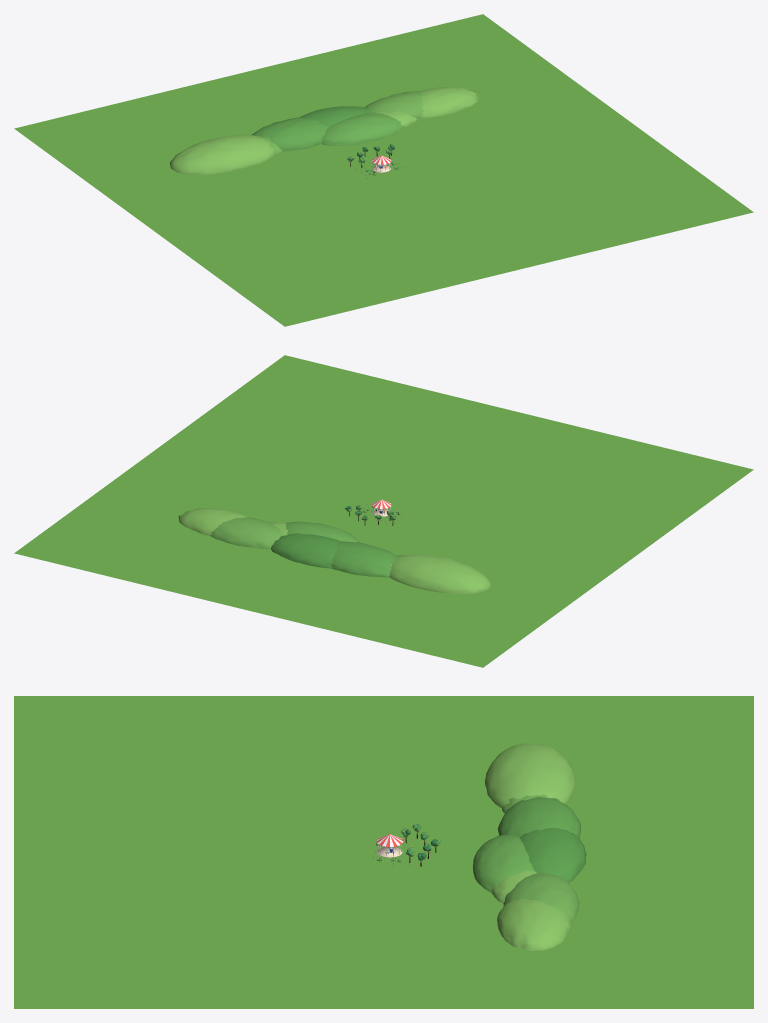
Rendered from B_house.glb.
The picture shows the model from 3 angles, top to bottom: view 1: azimuth 30°, elevation 25°; view 2: azimuth 150°, elevation 25°; view 3: azimuth 270°, elevation 25°; orthographic projection. The views are drawn at different scales.
Visible parts, largest first — view 1: environment_0, environment_1, environment_6, environment_4, environment_2, environment_5; view 2: environment_0, environment_1, environment_4, environment_5, environment_2, environment_6; view 3: environment_0, environment_1, environment_5, environment_4, environment_6, environment_2.
Boxes of the visible parts, bbox=[...] form: environment_0: bbox=[14, 14, 753, 326]; environment_1: bbox=[170, 87, 478, 174]; environment_6: bbox=[321, 113, 404, 146]; environment_4: bbox=[251, 117, 328, 151]; environment_2: bbox=[256, 91, 424, 154]; environment_5: bbox=[299, 106, 371, 126]; environment_0: bbox=[14, 355, 753, 667]; environment_1: bbox=[178, 508, 491, 594]; environment_4: bbox=[331, 541, 396, 577]; environment_5: bbox=[271, 533, 340, 568]; environment_2: bbox=[210, 517, 399, 572]; environment_6: bbox=[285, 521, 359, 542]; environment_0: bbox=[14, 696, 753, 1008]; environment_1: bbox=[485, 743, 576, 950]; environment_5: bbox=[519, 828, 586, 881]; environment_4: bbox=[497, 797, 580, 838]; environment_6: bbox=[473, 834, 534, 892]; environment_2: bbox=[502, 794, 579, 922].
Size of the model in its own units: 200 by 13.83 by 200.
82 materials, 4 textured.
